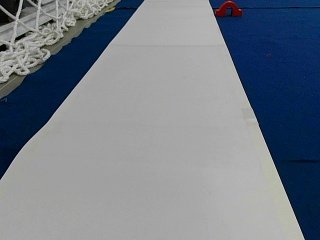bridge: (214, 0, 242, 15)
